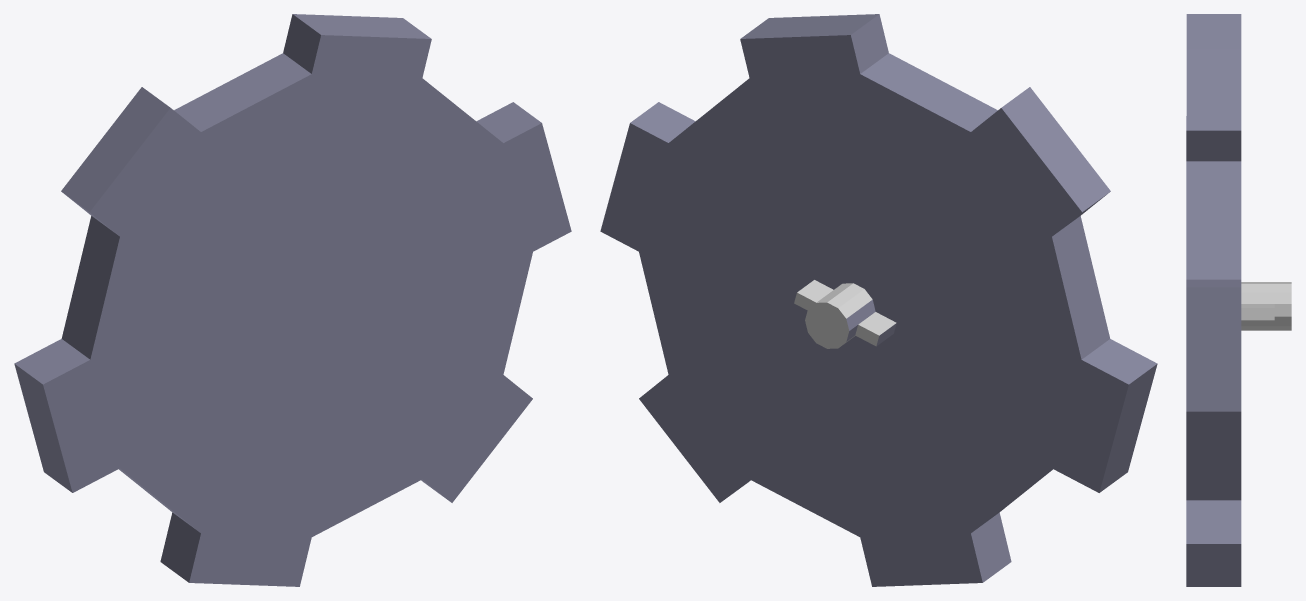
File: towerblockspeedCOG.fbx
The picture shows the model from 3 angles, left to right: view 1: azimuth 30°, elevation 25°; view 2: azimuth 150°, elevation 25°; view 3: azimuth 270°, elevation 25°; orthographic projection. The views are drawn at different scales.
Visible parts, largest first — view 1: Cylinder.001; view 2: Cylinder.001; view 3: Cylinder.001.
Part boxes in pixels (x1=…): Cylinder.001: x1=14, y1=14, x2=571, y2=586; Cylinder.001: x1=600, y1=14, x2=1157, y2=586; Cylinder.001: x1=1186, y1=14, x2=1291, y2=586.
Bounding box in the file's own units: 56.8 × 56.14 × 10.26.
